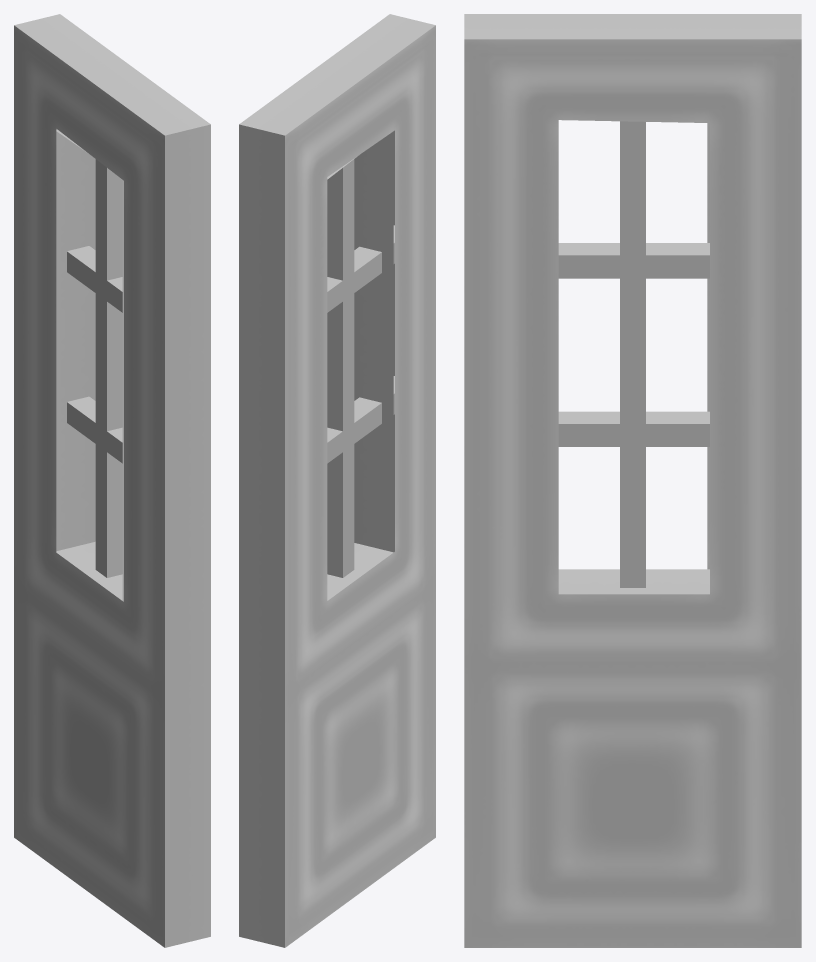
File: Door_c.fbx
3 renders of one model, left to right at view 1: azimuth 30°, elevation 25°; view 2: azimuth 150°, elevation 25°; view 3: azimuth 270°, elevation 25°, orthographic. The views are drawn at different scales.
Visible parts, largest first — view 1: polySurface16; view 2: polySurface16; view 3: polySurface16.
Boxes of the visible parts, left/top/right/bottom form: polySurface16: left=14, top=14, right=210, bottom=947; polySurface16: left=239, top=14, right=435, bottom=947; polySurface16: left=464, top=14, right=801, bottom=947.
Bounding box in the file's own units: 0.2967 × 5 × 1.68.
